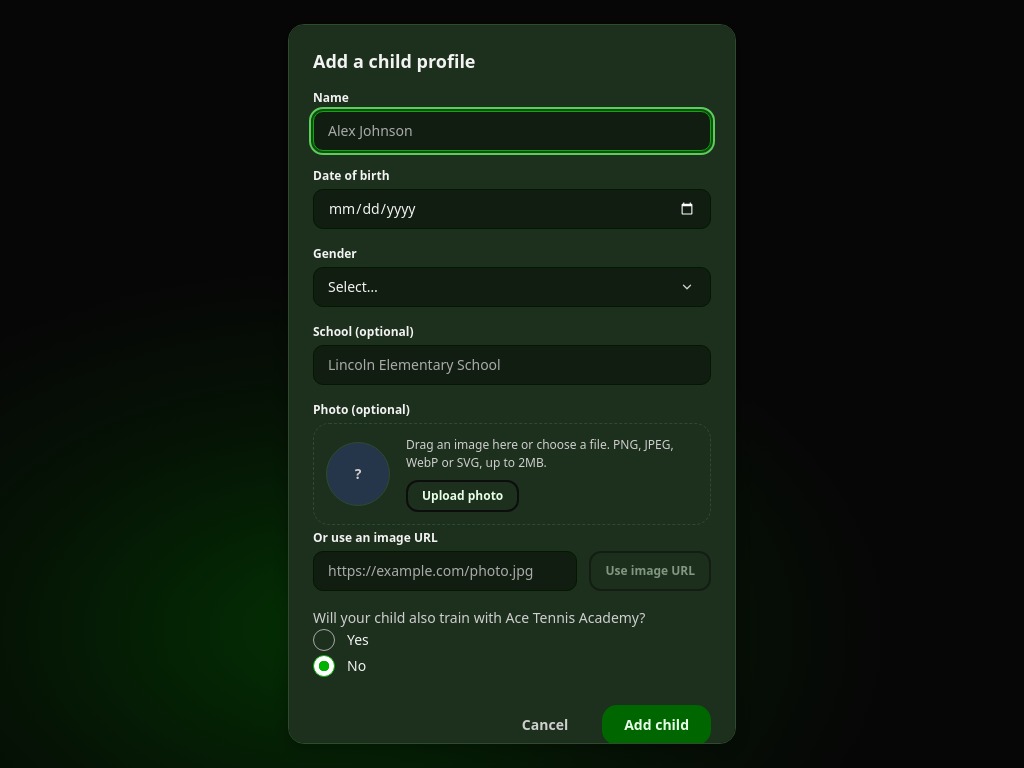
ChildProfileForm › trainer association prompt › asks "Will <Child> also train with <Trainer>?" with Yes/No radios for a single trainer
Step 1. Type "Alex" into the field labelled "Name" → (512, 131), box [313, 111, 711, 151]
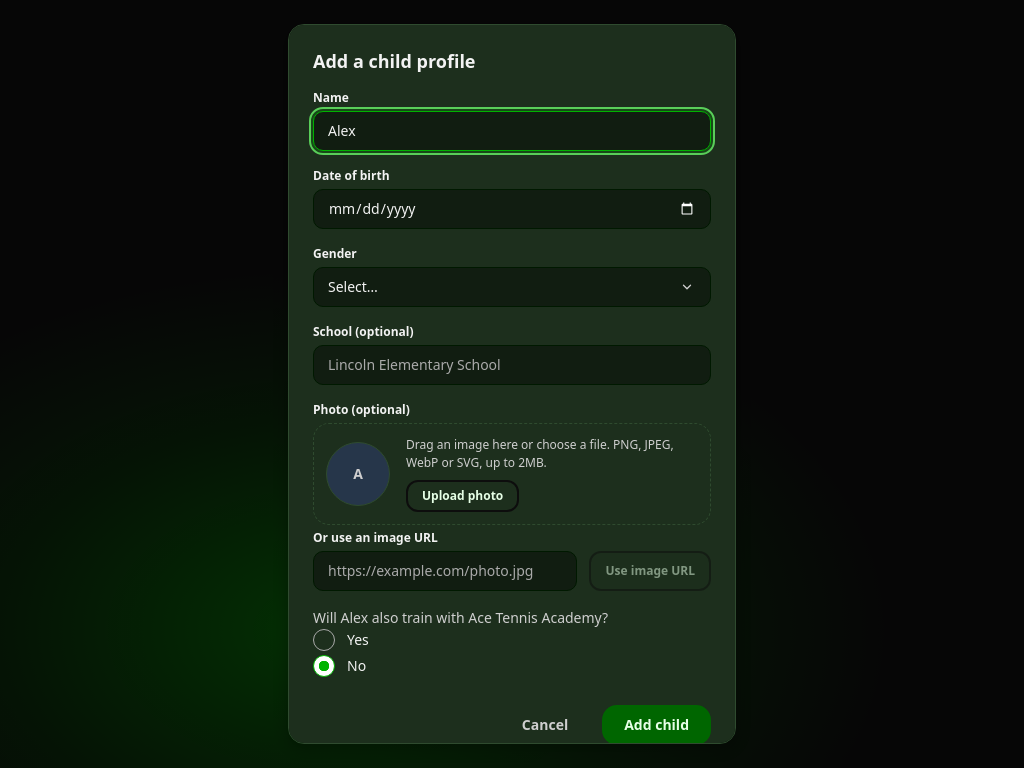
Expected: the radio button labelled "Yes" is not checked, [313, 629, 335, 651]
Result: the element "Will Alex also train with Ace Tennis Academy?" is shown at [313, 608, 608, 677]
